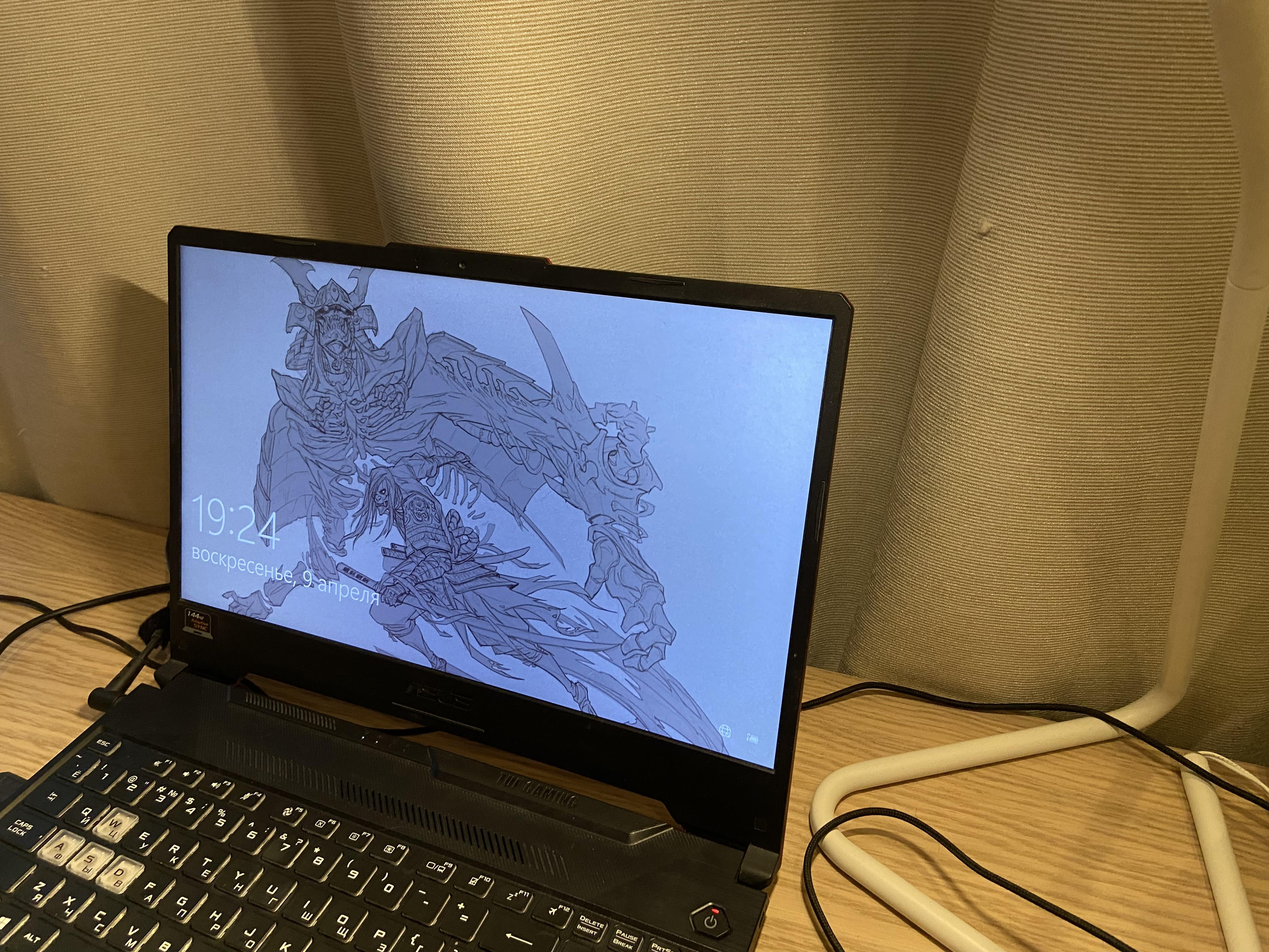monitor: (164, 220, 858, 846)
